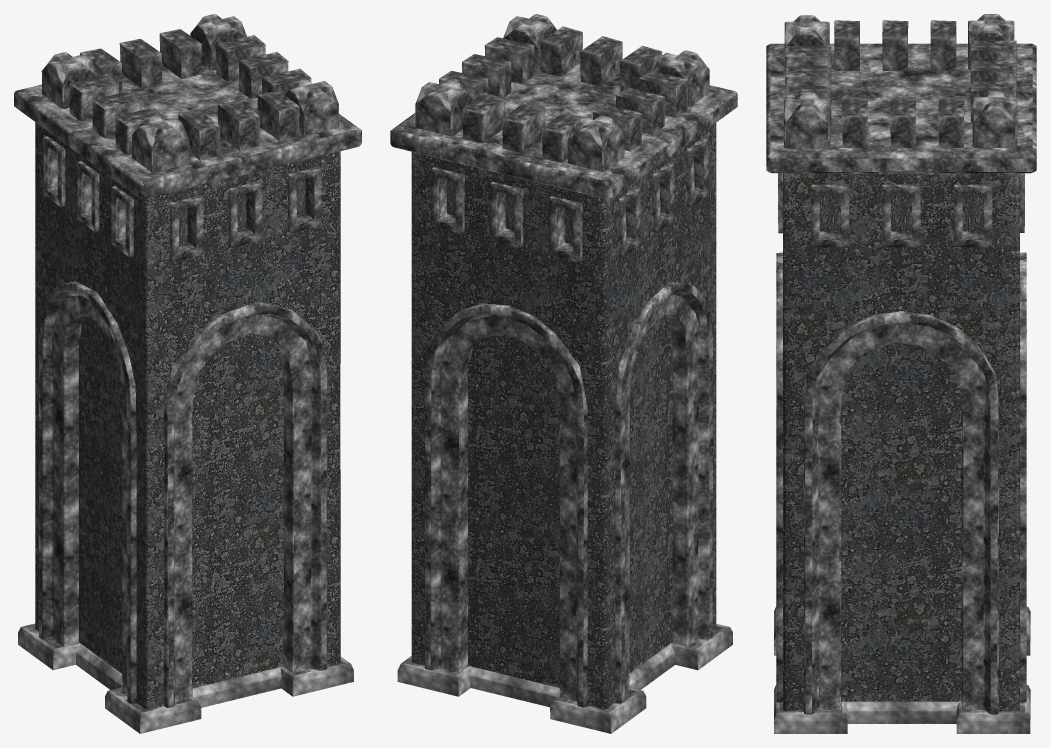
Rendered from SM_wall_tower_01.fbx.
The picture shows the model from 3 angles, left to right: view 1: azimuth 30°, elevation 25°; view 2: azimuth 150°, elevation 25°; view 3: azimuth 270°, elevation 25°; orthographic projection. The views are drawn at different scales.
Parts seen in each view (by area): view 1: SM_wall_tower_01_LOD0; view 2: SM_wall_tower_01_LOD0; view 3: SM_wall_tower_01_LOD0.
Part boxes in pixels (bbox=[...]): SM_wall_tower_01_LOD0: bbox=[14, 14, 361, 733]; SM_wall_tower_01_LOD0: bbox=[390, 14, 737, 733]; SM_wall_tower_01_LOD0: bbox=[766, 14, 1036, 733].
Size of the model in its own units: 510 by 510 by 1289.
